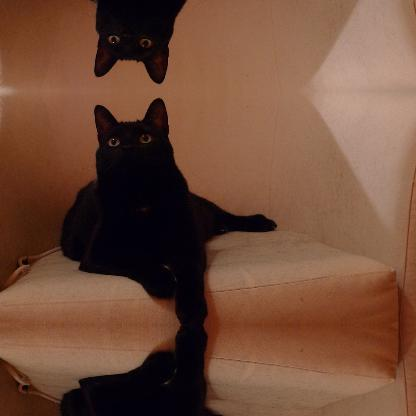Cat: (60, 96, 278, 324), (60, 324, 279, 415), (60, 0, 279, 85)
